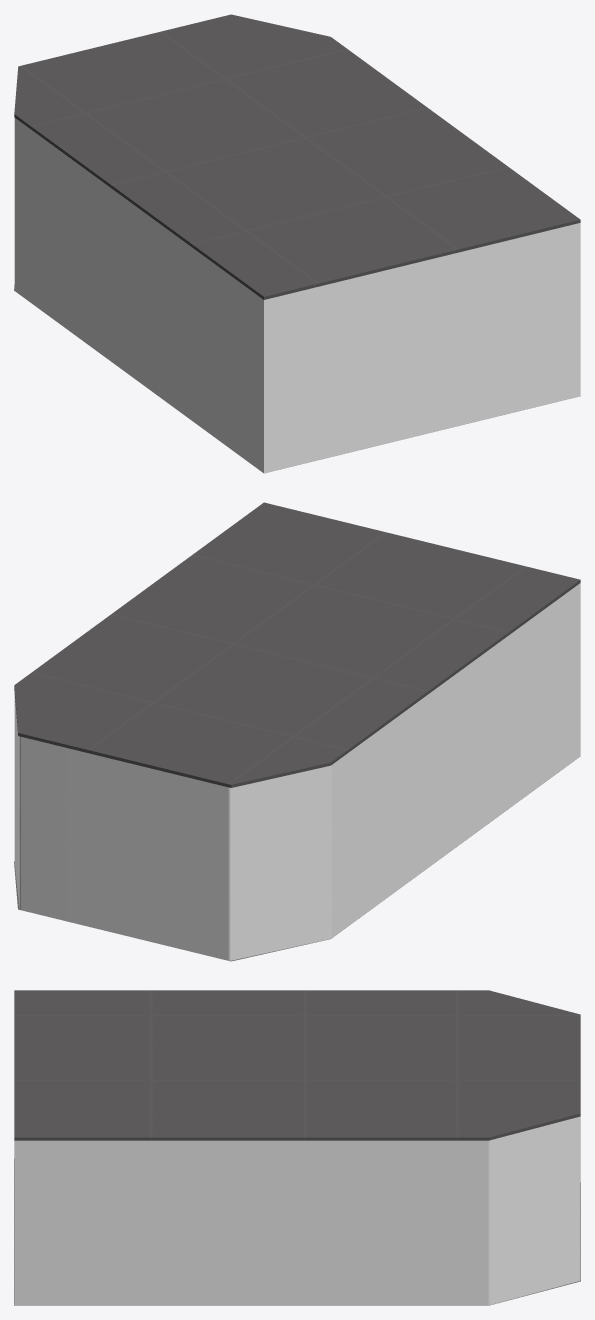
Rendered from Lobby Room.fbx.
The picture shows the model from 3 angles, top to bottom: view 1: azimuth 30°, elevation 25°; view 2: azimuth 150°, elevation 25°; view 3: azimuth 270°, elevation 25°; orthographic projection. The views are drawn at different scales.
Visible parts, largest first — view 1: Ceiling, Back_Wall, Left_wall; view 2: Ceiling, Front_wall, Left_wall; view 3: Ceiling, Right_wall, Front_wall, floor1.
Boxes of the visible parts, box(x1,y1,x2,y2) form: Ceiling: box(14, 14, 580, 299); Back_Wall: box(264, 223, 580, 473); Left_wall: box(14, 118, 263, 472); Ceiling: box(14, 502, 580, 787); Front_wall: box(14, 695, 330, 960); Left_wall: box(331, 583, 580, 938); Ceiling: box(14, 990, 580, 1140); Right_wall: box(14, 1140, 488, 1305); Front_wall: box(489, 1116, 580, 1305); floor1: box(14, 1158, 580, 1305).
Bounding box in the file's own units: 622 × 331 × 1012.
